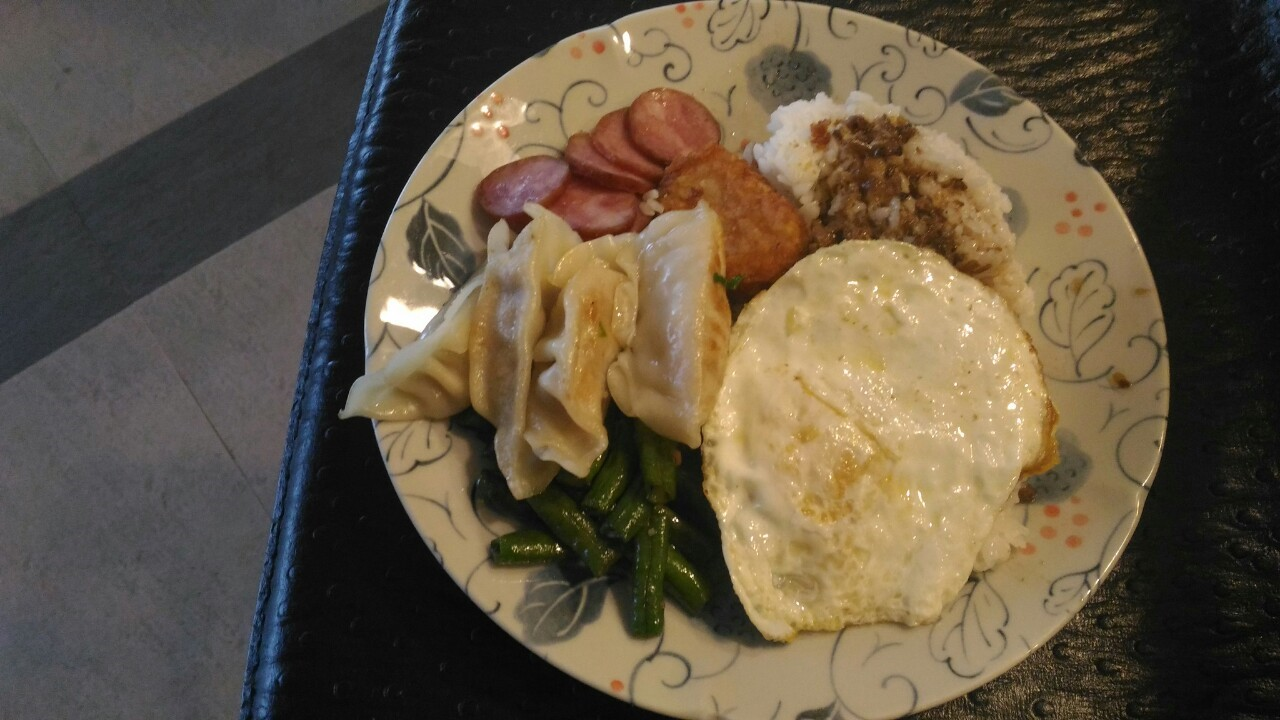chinese_sausage: (471, 85, 718, 226)
fried_dumplings: (335, 210, 737, 482)
fried_eggs: (699, 235, 1054, 642)
rice: (765, 98, 1000, 266)
